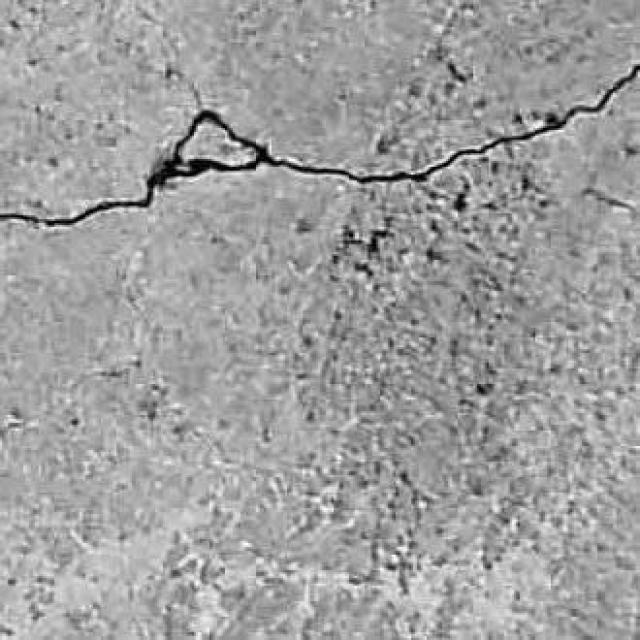crack: (0, 63, 639, 226)
